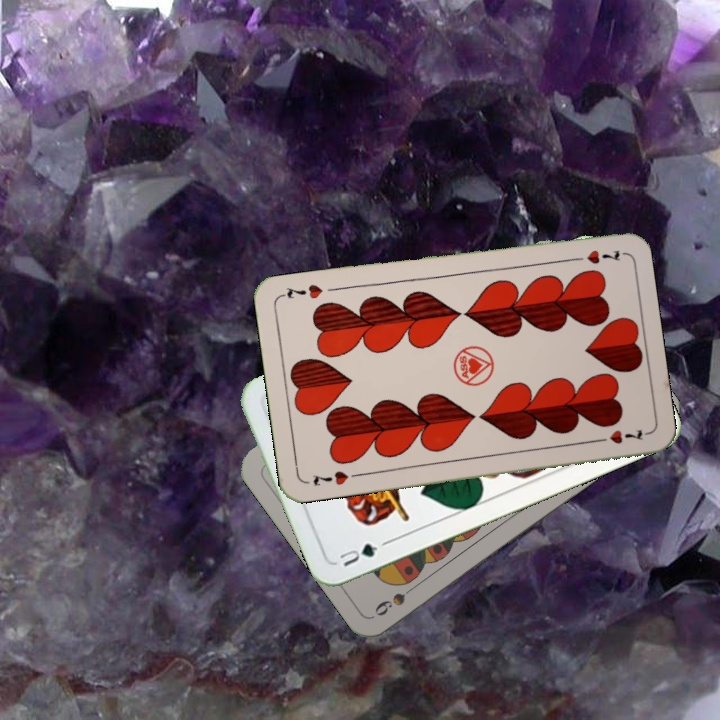GU: (335, 539, 381, 570)
H7: (566, 245, 625, 266), (308, 467, 363, 489)
S9: (370, 575, 422, 619)
